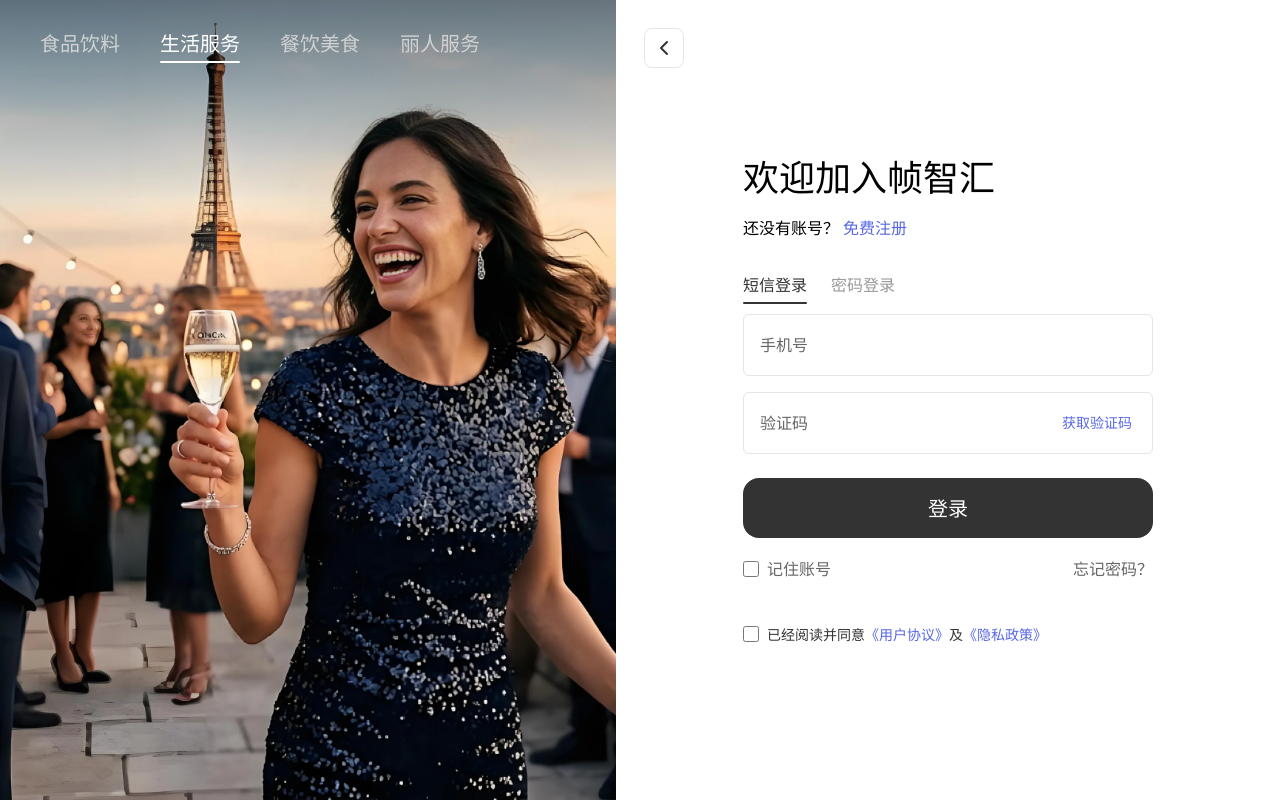
Scenario: LoginView behavior › 隐私政策入口不会打开用户服务协议或自动同意
Click the link "《隐私政策》".
click(1005, 635)  # box 963,626 -> 1047,644
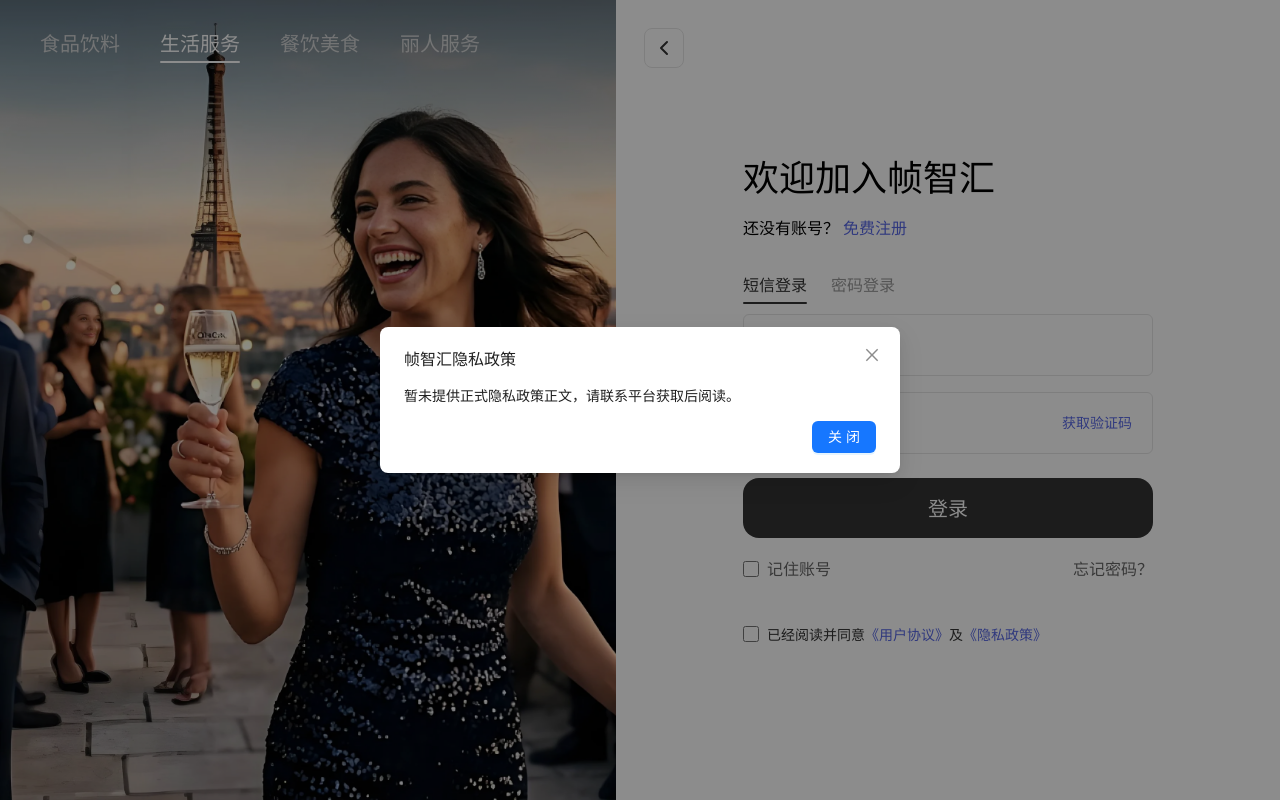
expect the dialog "帧智汇隐私政策" is shown: met, box 380,327 -> 900,473
Click the button "关 闭".
click(844, 437)  # box 812,421 -> 876,453
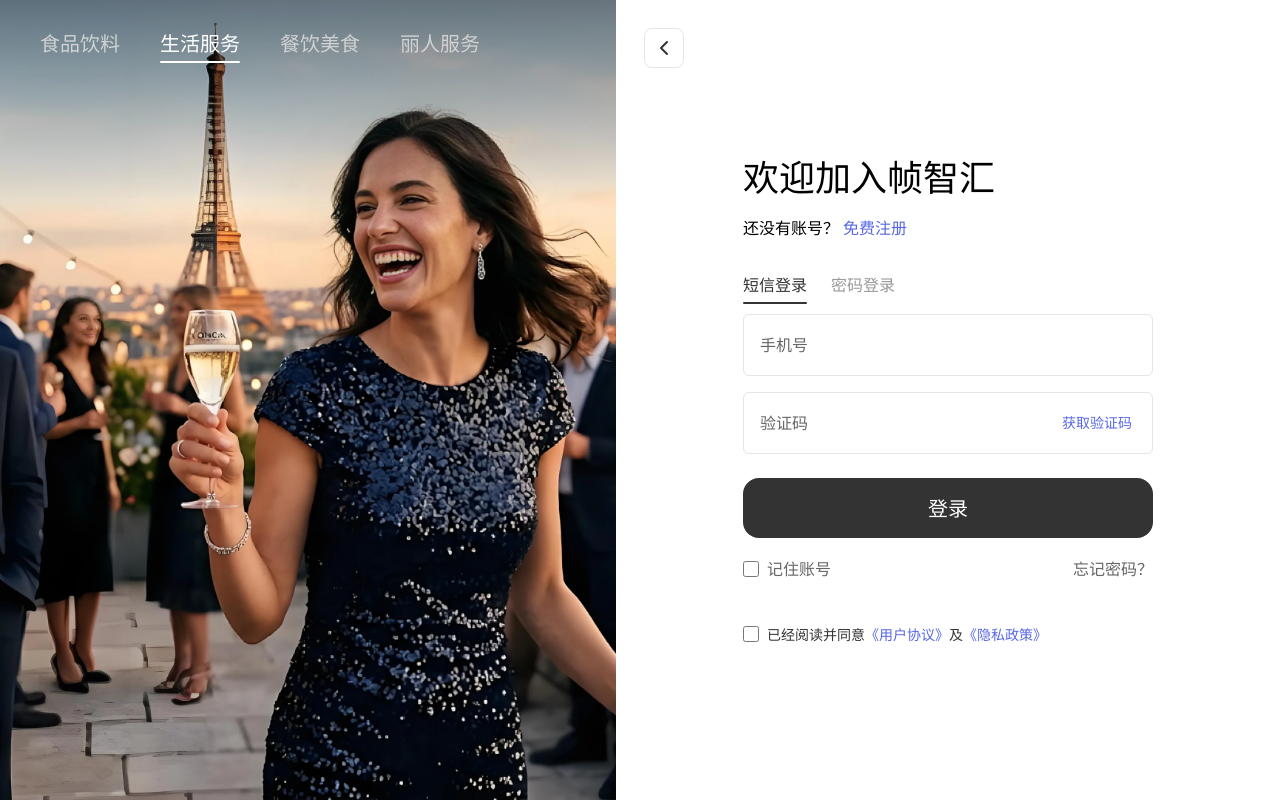
expect the checkbox labelled "已经阅读并同意《用户协议》及《隐私政策》" is not checked: met, box 743,626 -> 759,642
expect the dialog is gone: met
